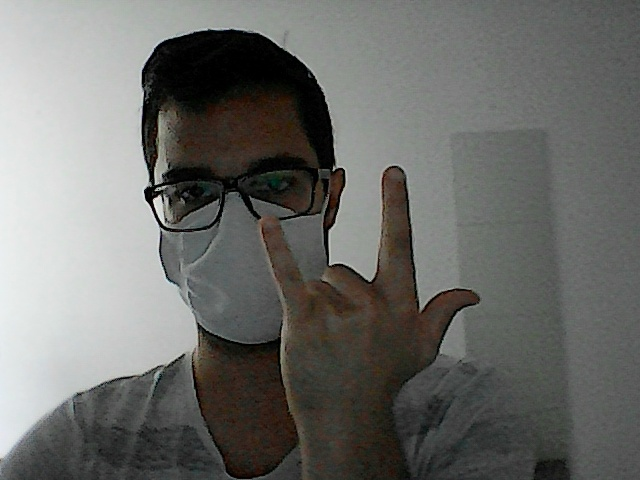shoot: (254, 161, 490, 403)
